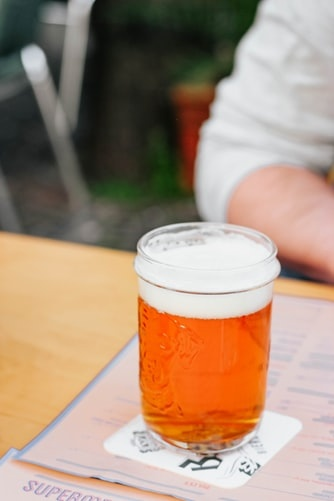whiskey: (133, 228, 274, 452)
